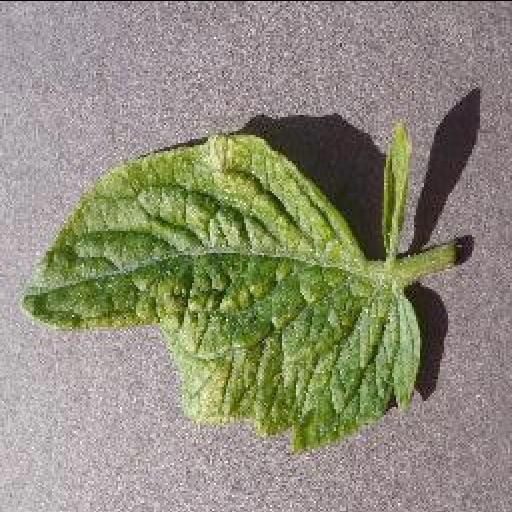disease_tomato: (20, 132, 418, 450)
